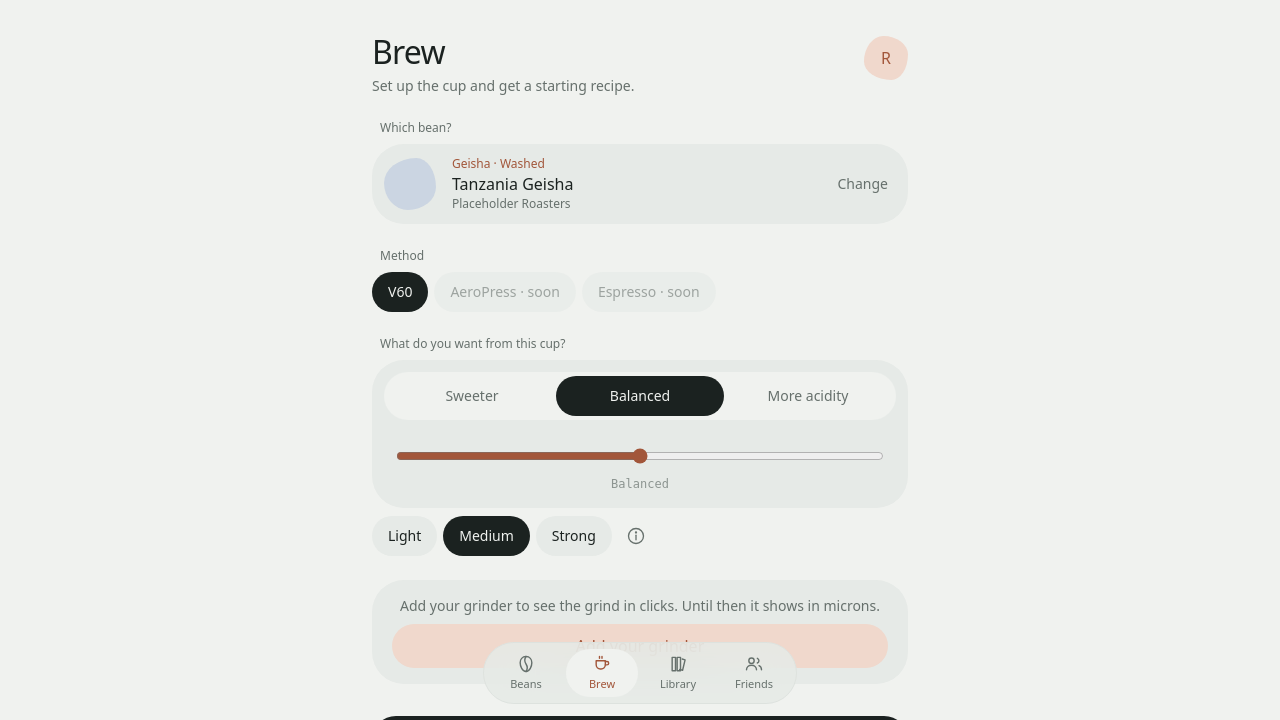
Strength info › explains what Light, Medium and Strong change, with the pour counts the engine uses
Click the button named "About strength".
click(636, 536)  # box [616, 516, 656, 556]
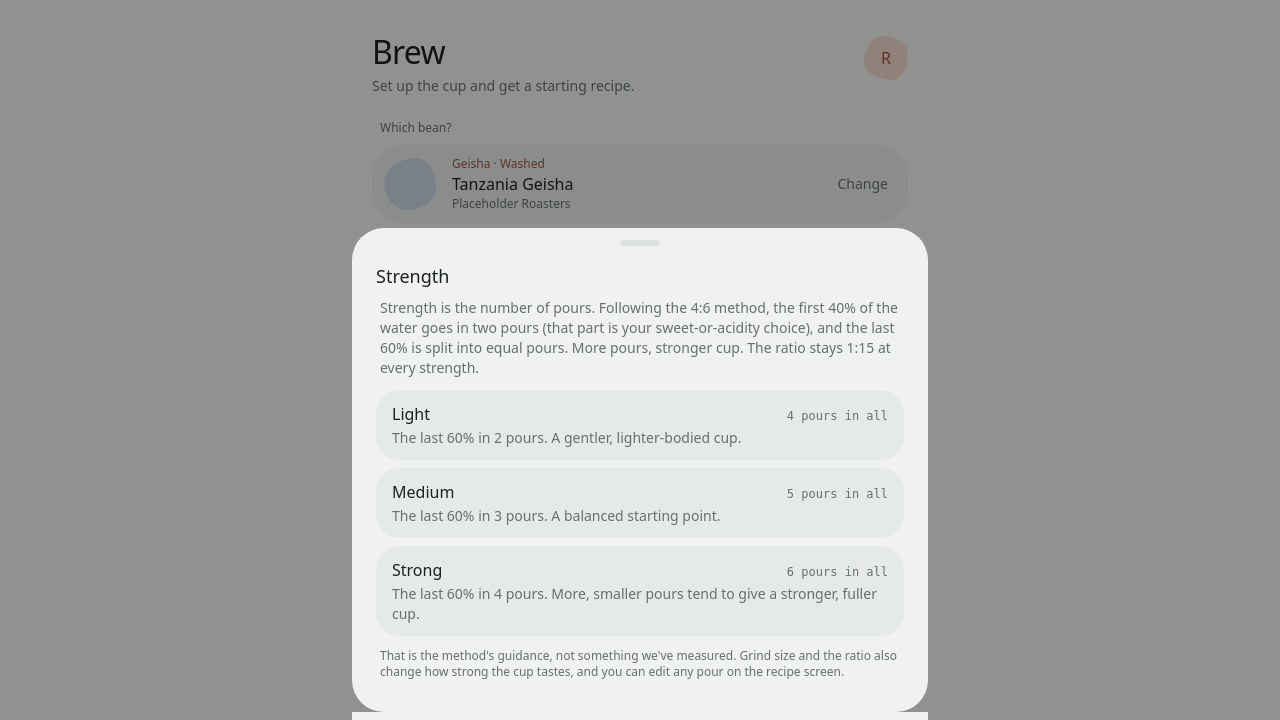
Check: the text "4 pours in all" is shown, box [787, 408, 888, 424]
Check: the text "5 pours in all" is shown, box [787, 486, 888, 502]
Check: the text "6 pours in all" is shown, box [787, 564, 888, 580]
